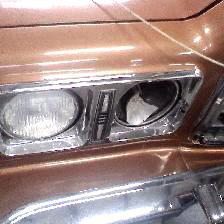head_lamp: (107, 65, 193, 149)
